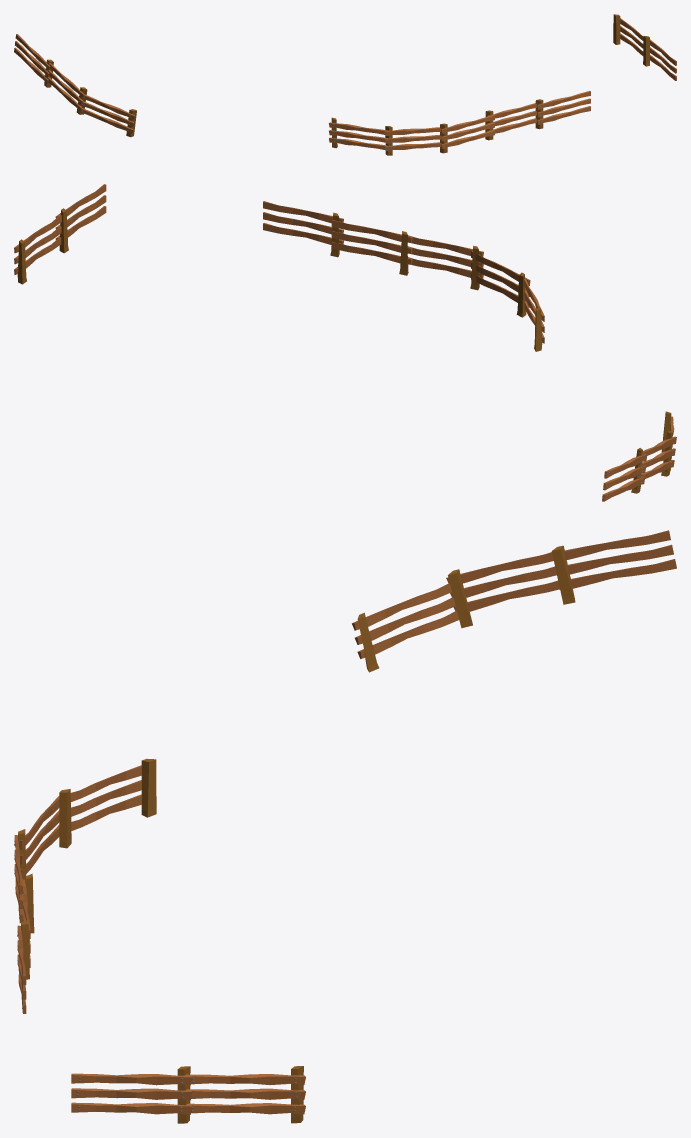
The model's file is fence.glb.
3 views of the same model, one above another, from view 1: azimuth 30°, elevation 25°; view 2: azimuth 150°, elevation 25°; view 3: azimuth 270°, elevation 25° (orthographic). The views are drawn at different scales.
Parts seen in each view (by area): view 1: Object_6.021, Object_6.024, Object_6.020, Object_6.022, Object_6.005, Object_6.023, Object_6.004, Object_6.006, Object_6.002, Object_6.003; view 2: Object_6.023, Object_6.024, Object_6.022, Object_6.020, Object_6.003, Object_6.002, Object_6.006, Object_6.004, Object_6.021; view 3: Object_6.002, Object_6.003, Object_6.006, Object_6.004, Object_6.005, Object_6.021, Object_6.020, Object_6.024.
Boxes of the visible parts, box(x1,y1,x2,y2) form: Object_6.021: box(328, 117, 388, 150); Object_6.024: box(535, 91, 590, 129); Object_6.020: box(385, 126, 441, 155); Object_6.022: box(440, 115, 494, 153); Object_6.005: box(79, 94, 136, 137); Object_6.023: box(485, 103, 537, 140); Object_6.004: box(44, 61, 87, 114); Object_6.006: box(14, 34, 53, 87); Object_6.002: box(643, 36, 676, 80); Object_6.003: box(613, 14, 643, 55); Object_6.023: box(331, 219, 412, 275); Object_6.024: box(263, 201, 343, 257); Object_6.022: box(407, 235, 483, 290); Object_6.020: box(471, 250, 530, 317); Object_6.003: box(14, 215, 61, 284); Object_6.002: box(55, 184, 106, 253); Object_6.006: box(602, 448, 647, 501); Object_6.004: box(637, 430, 676, 478); Object_6.021: box(524, 279, 544, 351); Object_6.002: box(71, 1066, 192, 1123); Object_6.003: box(185, 1066, 305, 1123); Object_6.006: box(551, 530, 676, 604); Object_6.004: box(446, 549, 572, 628); Object_6.005: box(352, 583, 459, 672); Object_6.021: box(70, 758, 156, 830); Object_6.020: box(19, 789, 71, 878); Object_6.024: box(17, 920, 29, 1013).
Bounding box in the file's own units: 18.96 × 2.19 × 11.13.
